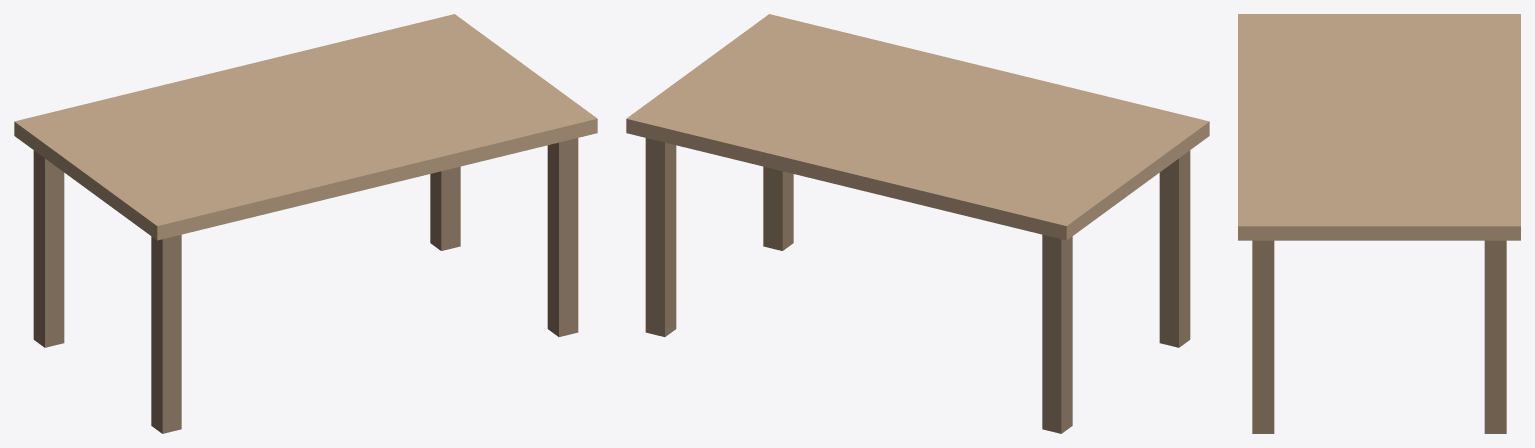
Rendered from dining-table.glb.
3 renders of one model, left to right at view 1: azimuth 30°, elevation 25°; view 2: azimuth 150°, elevation 25°; view 3: azimuth 270°, elevation 25°, orthographic.
Visible parts, largest first — view 1: DiningTable_Top, DiningTable; view 2: DiningTable_Top, DiningTable; view 3: DiningTable_Top, DiningTable.
Boxes of the visible parts, x1,y1,x2,y2 form: DiningTable_Top: (14,14,597,240); DiningTable: (33,138,578,433); DiningTable_Top: (626,14,1209,240); DiningTable: (645,138,1190,433); DiningTable_Top: (1238,14,1520,240); DiningTable: (1252,240,1506,433).
Bounding box in the file's own units: 1.6 × 0.75 × 0.9.
